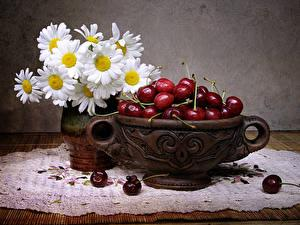chamomile: (84, 51, 122, 79), (41, 71, 70, 97), (112, 34, 139, 61), (72, 81, 98, 109), (121, 66, 147, 90), (35, 31, 62, 53), (56, 48, 80, 72), (14, 74, 34, 99), (80, 27, 98, 44)
